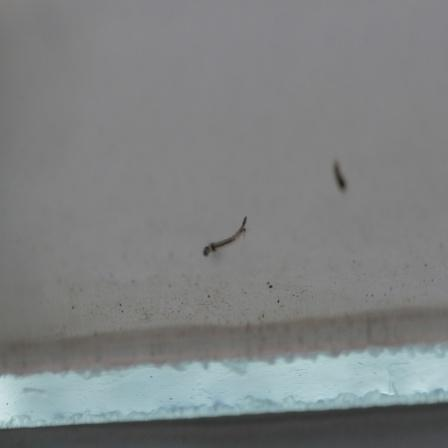Jentik-Nyamuk: (197, 213, 252, 260), (328, 153, 349, 201)
